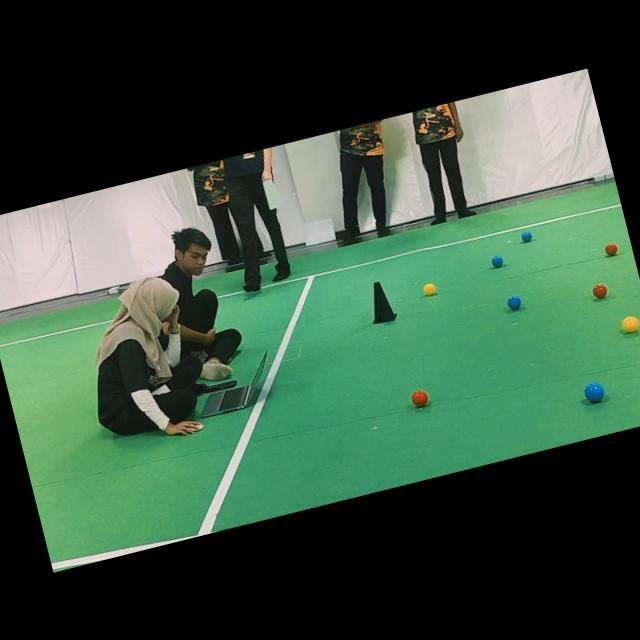ball: (584, 383, 604, 402), (621, 315, 640, 332), (411, 389, 428, 407), (592, 283, 608, 298), (507, 296, 521, 309), (604, 242, 618, 255), (491, 255, 504, 267), (424, 282, 436, 295), (521, 230, 532, 242)
